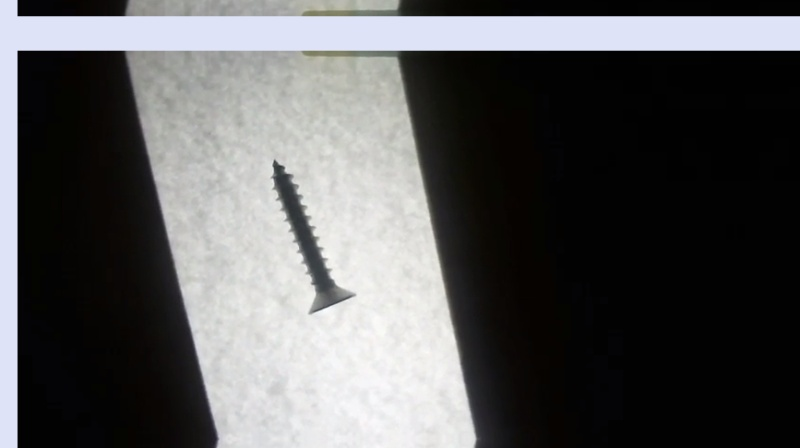S001: (270, 155, 359, 316)
